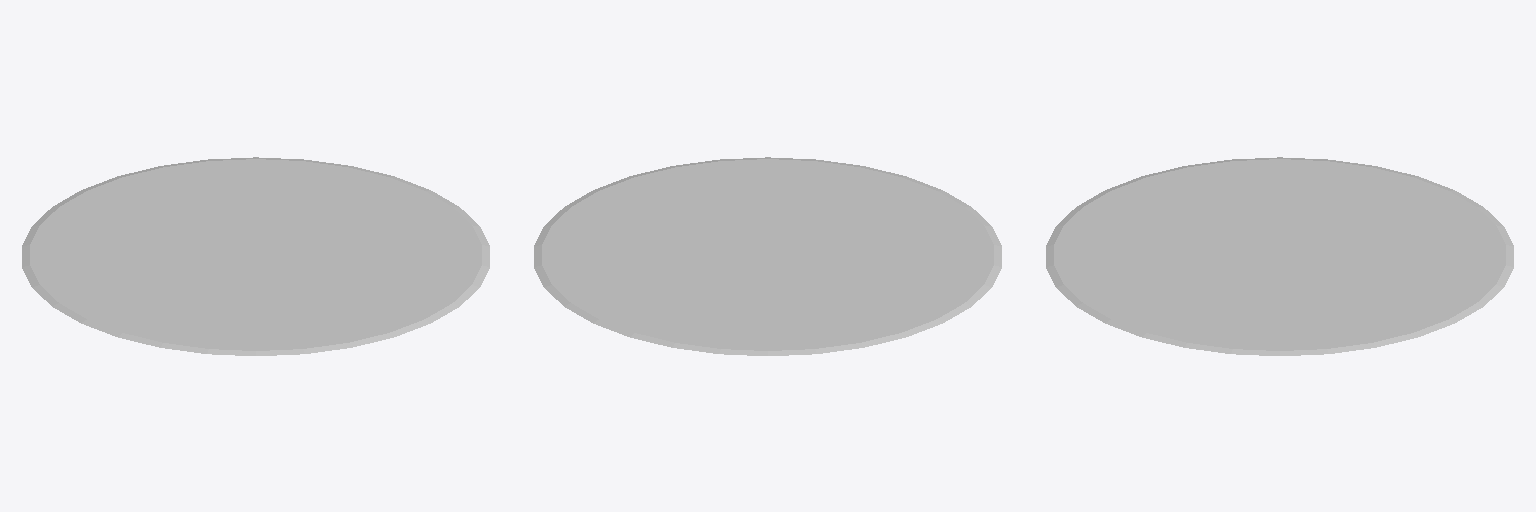
File: Rug.obj
The picture shows the model from 3 angles: view 1: azimuth 30°, elevation 25°; view 2: azimuth 150°, elevation 25°; view 3: azimuth 270°, elevation 25°; orthographic projection.
Parts seen in each view (by area): view 1: Rug; view 2: Rug; view 3: Rug.
Part boxes in pixels (left/top/right/bottom): Rug: left=22, top=157, right=489, bottom=355; Rug: left=534, top=157, right=1001, bottom=355; Rug: left=1046, top=157, right=1513, bottom=355.
Size of the model in its own units: 3.12 by 0.0135 by 3.1.